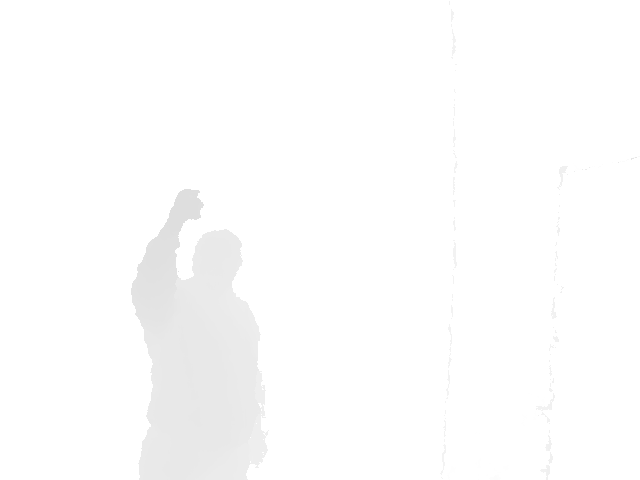hand: (165, 188, 205, 222)
head: (192, 227, 242, 294)
person: (129, 187, 269, 480)
